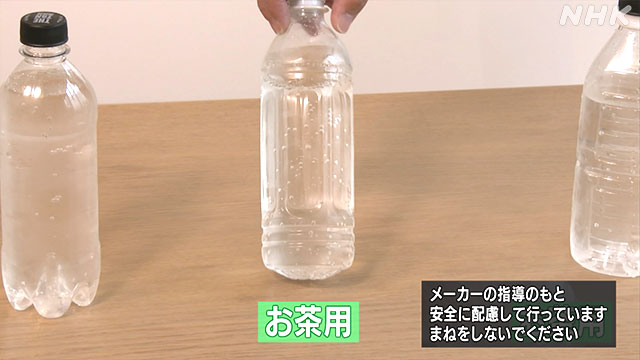plastic_bottle: (1, 5, 110, 321), (258, 0, 361, 282), (568, 25, 640, 276)
